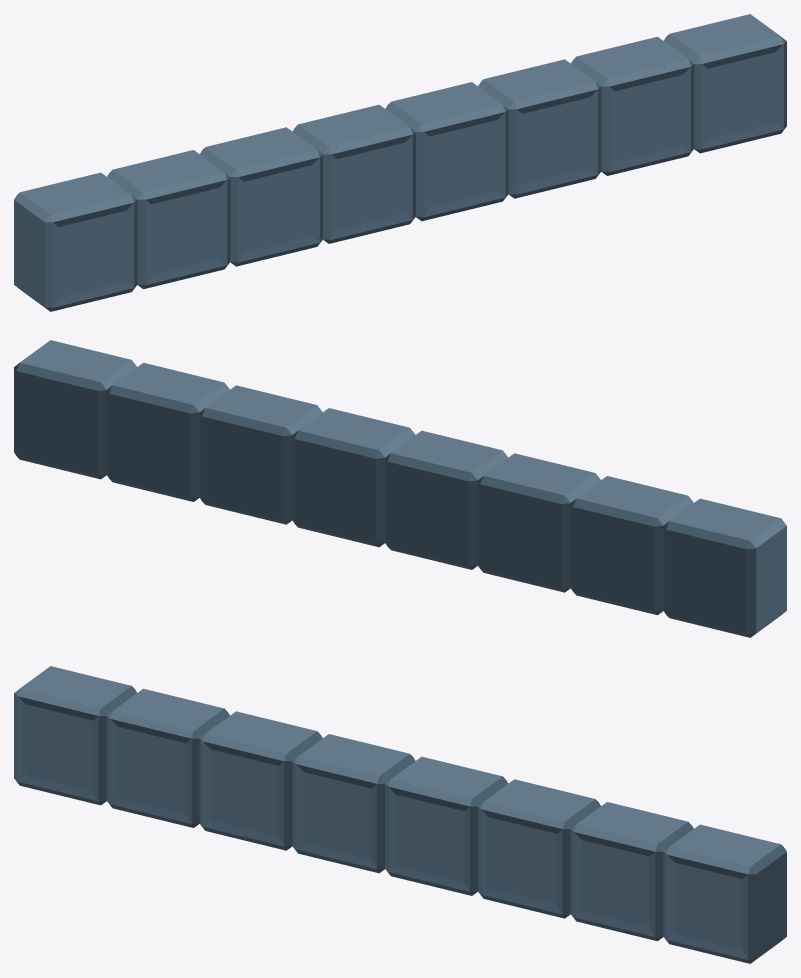
File: Terrain_Block8x1.gltf
The picture shows the model from 3 angles, top to bottom: view 1: azimuth 30°, elevation 25°; view 2: azimuth 150°, elevation 25°; view 3: azimuth 330°, elevation 25°; orthographic projection.
Visible parts, largest first — view 1: Terrain_Block8x1_baked; view 2: Terrain_Block8x1_baked; view 3: Terrain_Block8x1_baked.
Part boxes in pixels (bbox=[...]): Terrain_Block8x1_baked: bbox=[14, 14, 786, 311]; Terrain_Block8x1_baked: bbox=[14, 340, 786, 637]; Terrain_Block8x1_baked: bbox=[14, 666, 786, 963].
Size of the model in its own units: 8 by 1 by 0.6822.
